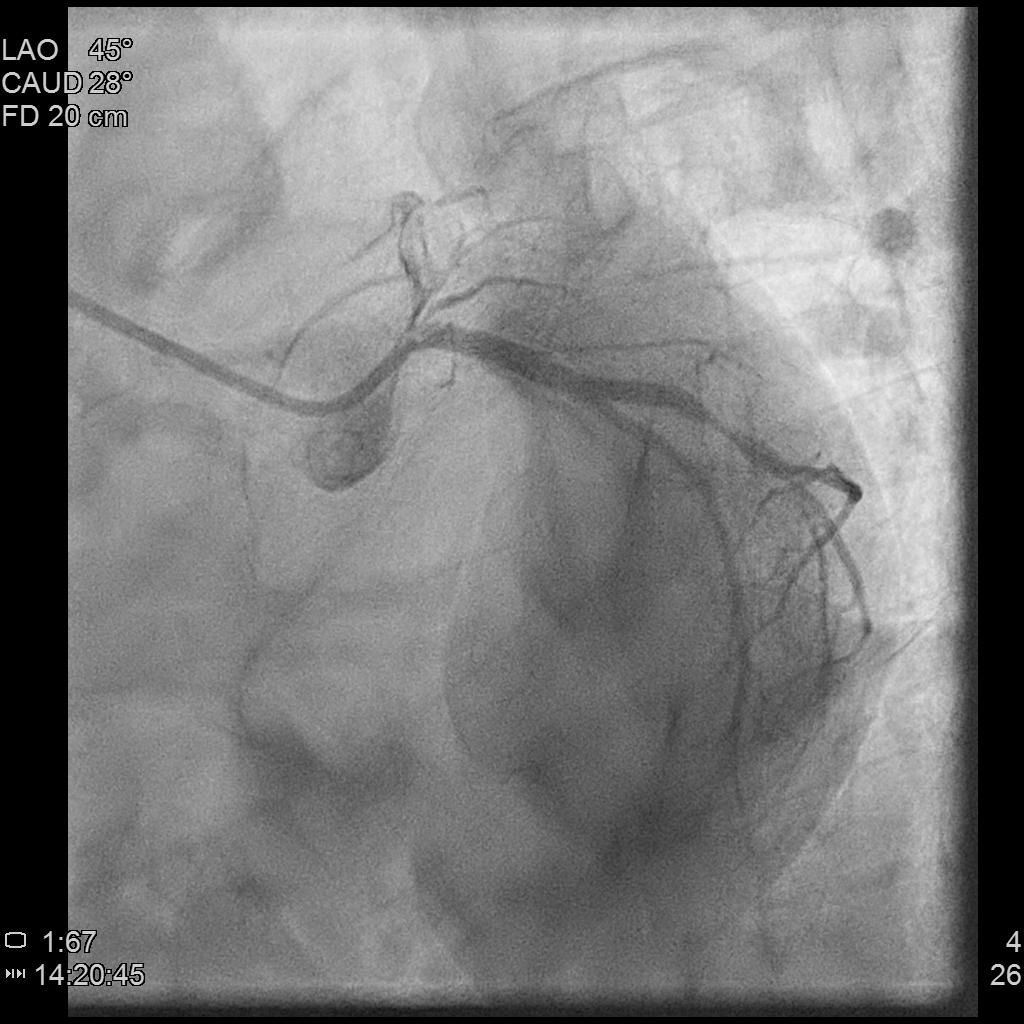block: (677, 388, 771, 463)
